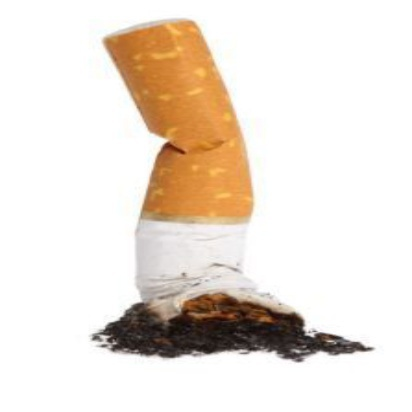cigarette: (99, 14, 316, 363)
